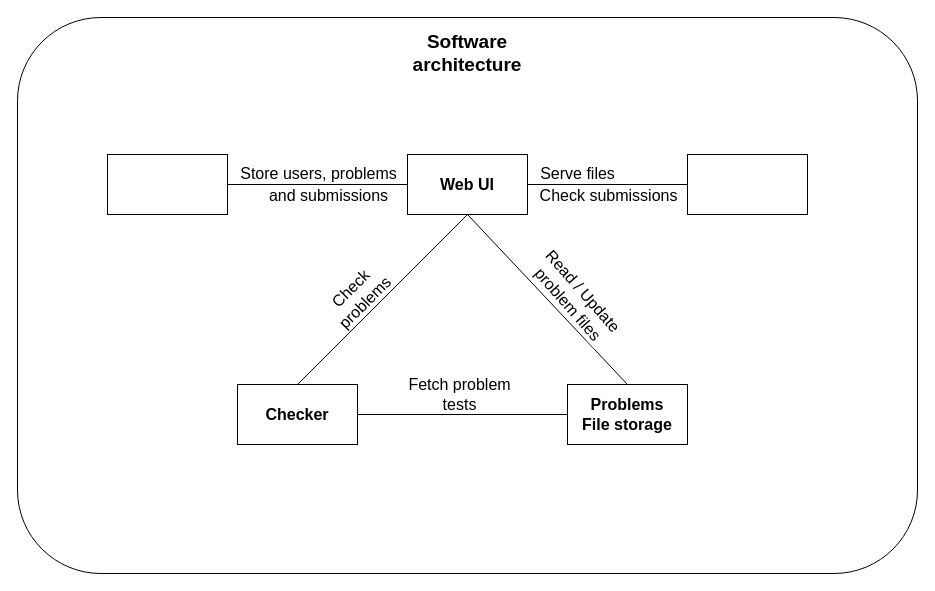
The diagram is 935 pixels wide and 591 high, and some of its shapes have lost their labels. The shapes that lost their labels are listed below. From the top down, each one's centre as x and y in pixels, then its label:
At (x=167, y=184): "PostgreSQL".
At (x=747, y=184): "VSCode workspaces".
